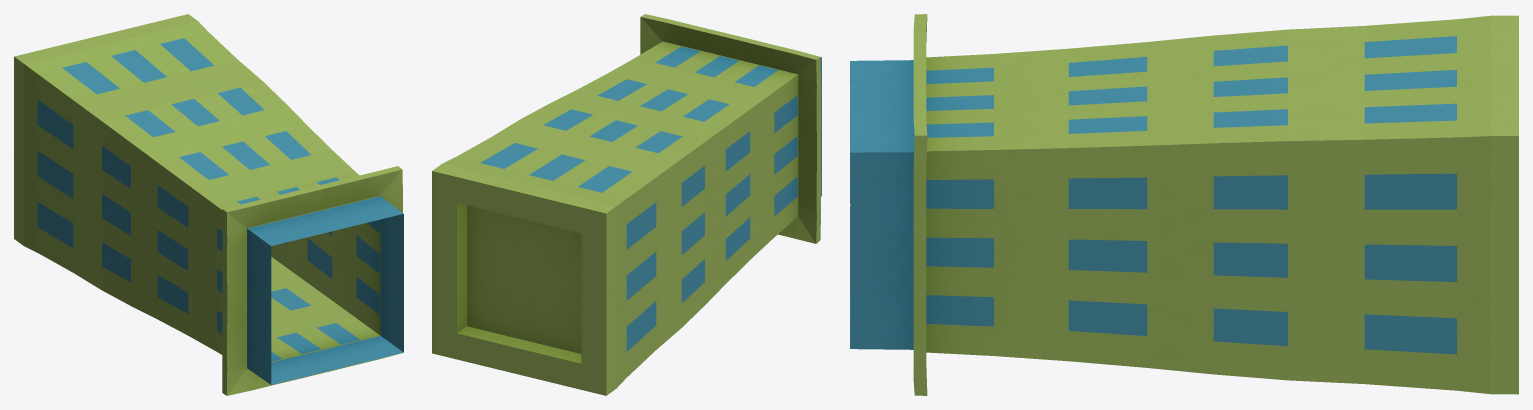
File: Mod_Buiding_var02.fbx
The picture shows the model from 3 angles, left to right: view 1: azimuth 30°, elevation 25°; view 2: azimuth 150°, elevation 25°; view 3: azimuth 270°, elevation 25°; orthographic projection. The views are drawn at different scales.
Visible parts, largest first — view 1: Mod_Building_var2; view 2: Mod_Building_var2; view 3: Mod_Building_var2.
Boxes of the visible parts, bbox=[...] form: Mod_Building_var2: bbox=[14, 14, 403, 395]; Mod_Building_var2: bbox=[432, 14, 821, 395]; Mod_Building_var2: bbox=[850, 14, 1518, 395].
Bounding box in the file's own units: 266 × 266 × 617.
Materials: 1 (1 with a texture image).
